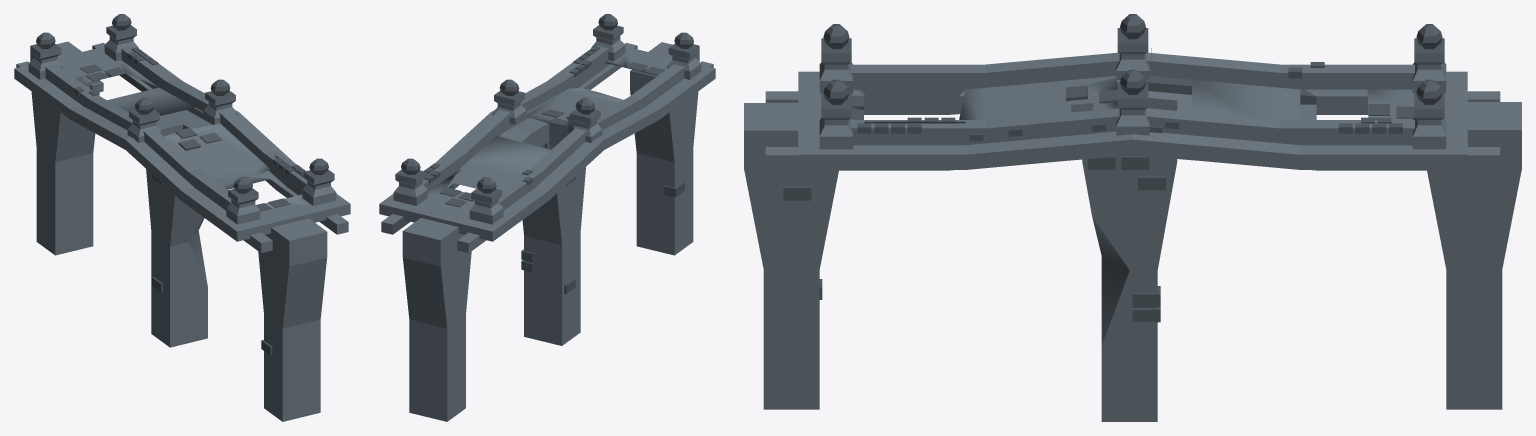
The model's file is Puente.fbx.
3 views of the same model, side by side, from view 1: azimuth 30°, elevation 25°; view 2: azimuth 150°, elevation 25°; view 3: azimuth 270°, elevation 25° (orthographic). The views are drawn at different scales.
Visible parts, largest first — view 1: Puente; view 2: Puente; view 3: Puente.
Boxes of the visible parts, box(x1,y1,x2,y2) form: Puente: box(14, 14, 350, 421); Puente: box(379, 14, 715, 421); Puente: box(744, 14, 1521, 421).
Size of the model in its own units: 729 by 1503 by 2880.
